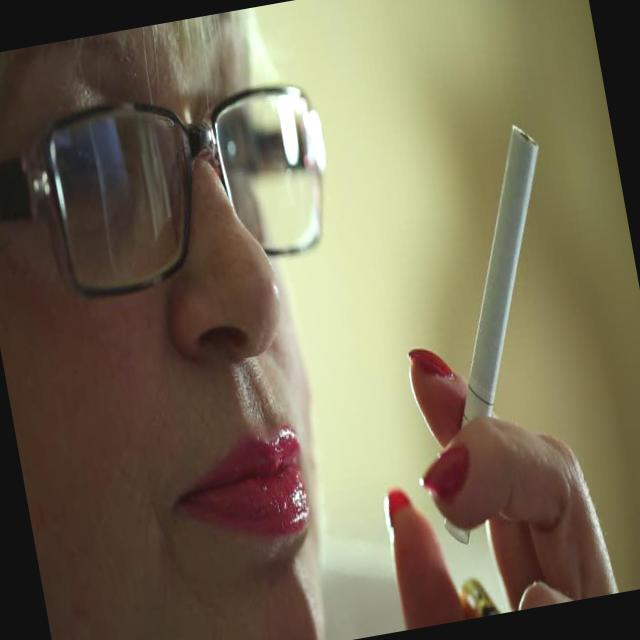cigarette: (365, 94, 626, 532)
